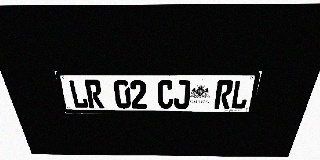0: (113, 80, 131, 108)
2: (130, 80, 147, 109)
C: (157, 80, 174, 109)
J: (174, 80, 191, 109)
L: (230, 80, 251, 109), (68, 80, 89, 108)
R: (214, 80, 234, 109), (84, 80, 104, 108)
